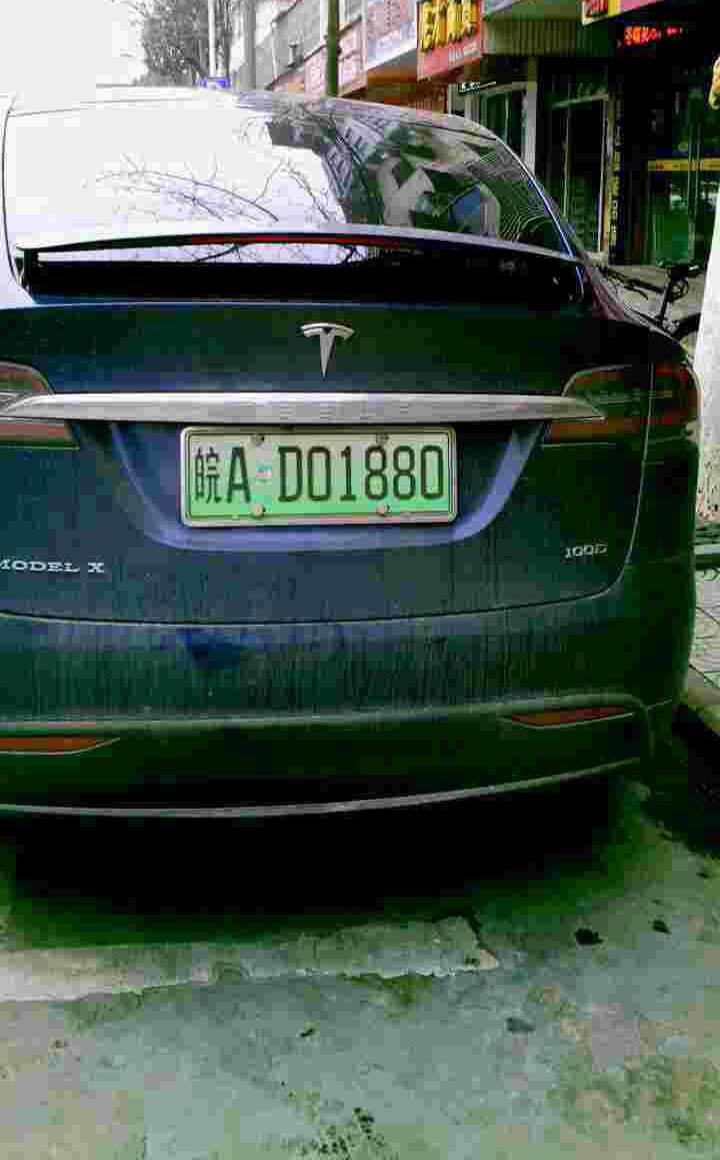car: (184, 434, 461, 521)
